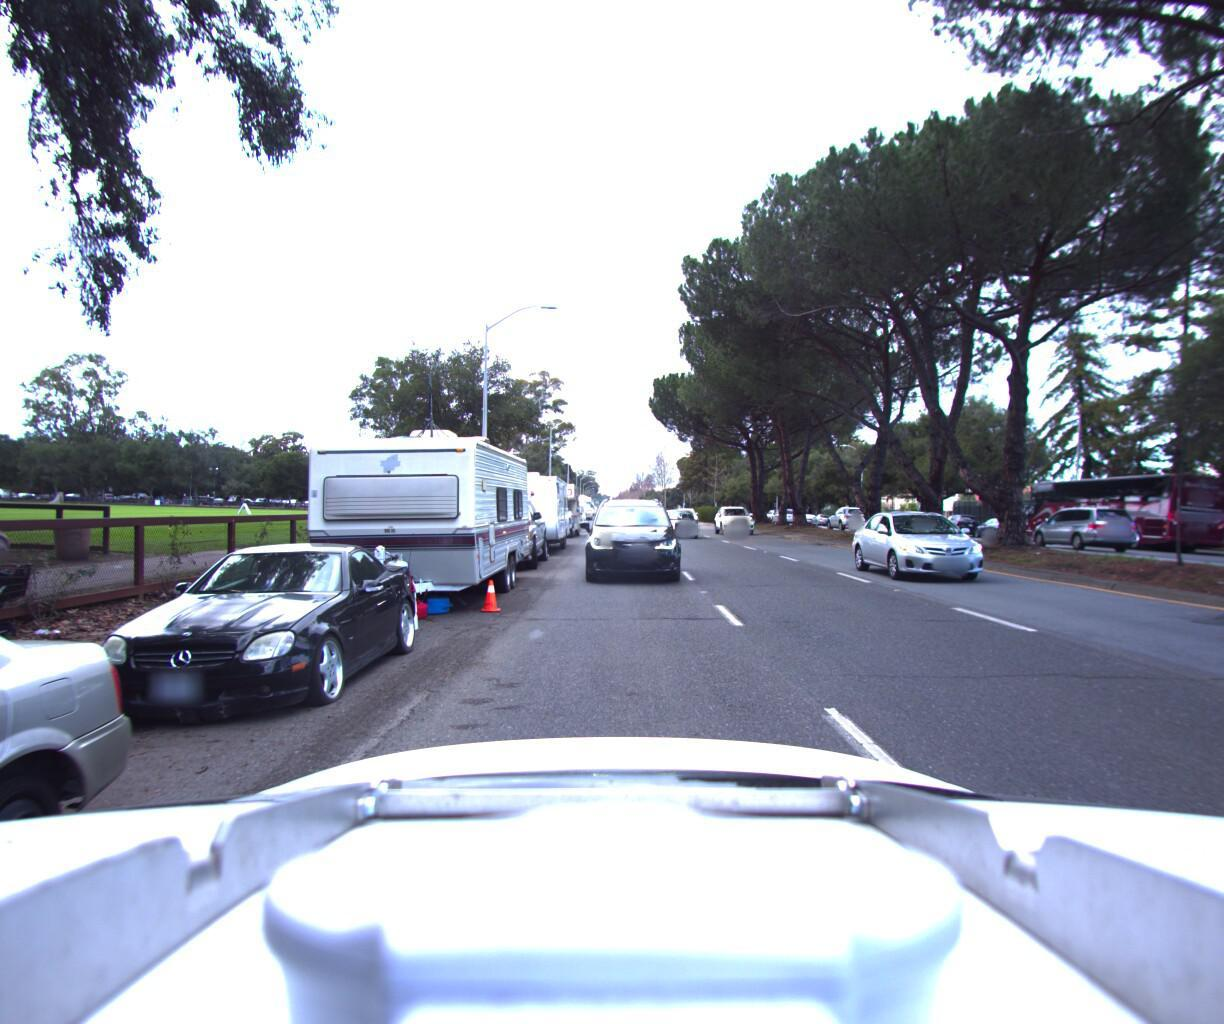bus: (1015, 465, 1224, 552)
car: (51, 526, 428, 739), (859, 504, 1022, 588), (442, 488, 550, 571), (579, 488, 671, 581), (1012, 497, 1120, 545), (967, 513, 1026, 539), (714, 500, 759, 534), (662, 506, 705, 539), (815, 504, 861, 530), (931, 509, 980, 533)
other_vehicle: (248, 391, 535, 636), (465, 457, 574, 557), (522, 471, 580, 536), (549, 493, 584, 524)
